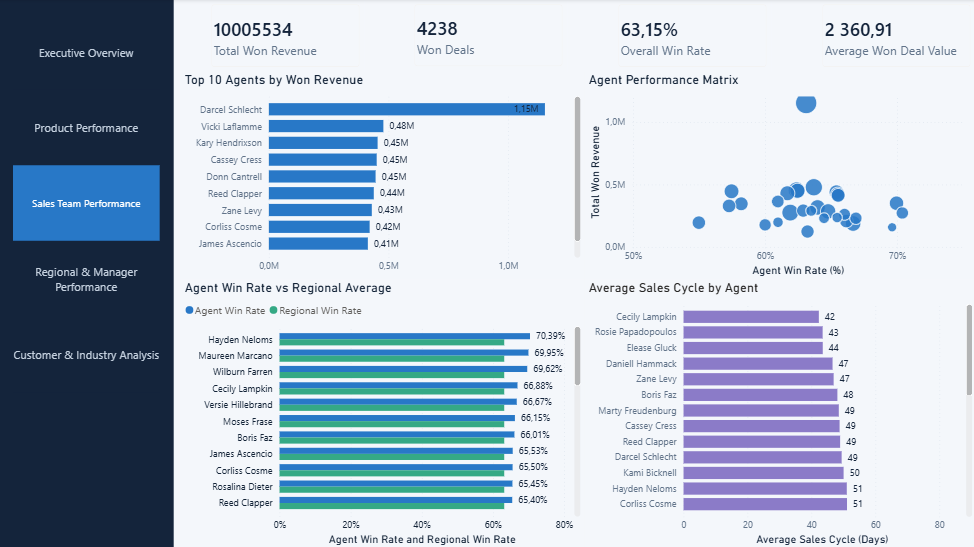

What the dashboard file says about the page in this screenshot:
{"tool":"powerbi","page":{"name":"Sales Team Performance","canvas":[1280,720],"ordinal":2},"visuals":[{"type":"shape","box":[0,0,230,720],"z":0},{"type":"pageNavigator","box":[20,20,192,496],"z":1000},{"type":"cardVisual","fields":{"Data":["sales_pipeline.Won Deals"]},"box":[538.7,0,208,96],"z":2000},{"type":"cardVisual","fields":{"Data":["sales_pipeline.Overall Win Rate"]},"box":[805.3,0,208,96],"z":3000},{"type":"cardVisual","fields":{"Data":["sales_pipeline.Total Won Revenue"]},"box":[272,0,208,96],"z":4000},{"type":"cardVisual","fields":{"Data":["sales_pipeline.Average Won Deal Value"]},"box":[1072,0,208,96],"z":5000},{"type":"clusteredBarChart","title":"Top 10 Agents by Won Revenue","fields":{"Category":["sales_teams.sales_agent"],"Y":["sales_pipeline.Total Won Revenue"]},"box":[240,96,528,272],"z":6000},{"type":"clusteredBarChart","title":"Agent Win Rate vs Regional Average","fields":{"Category":["sales_teams.sales_agent"],"Y":["sales_pipeline.Overall Win Rate","sales_teams.Regional Win Rate"]},"box":[240,368,528,352],"z":7000},{"type":"scatterChart","title":"Agent Performance Matrix","fields":{"X":["sales_pipeline.Overall Win Rate"],"Y":["sales_pipeline.Total Won Revenue"],"Size":["sales_pipeline.Won Deals"],"Category":["sales_pipeline.sales_agent"]},"box":[768,96,512,272],"z":8000},{"type":"clusteredBarChart","title":"Average Sales Cycle by Agent","fields":{"Category":["sales_teams.sales_agent"],"Y":["sales_pipeline.Average Sales Cycle"]},"box":[768,368,512,352],"z":9000}]}

Visuals, with their boxes on the page's 1280x720 design canvas (x1, y1, x2, y2). These are canvas units, not pixel positions in the 974x547 screenshot, which may show the page scaled, cropped or inside an application window:
shape: select_region(0, 0, 230, 720)
pageNavigator: select_region(20, 20, 212, 516)
cardVisual - sales_pipeline.Won Deals: select_region(539, 0, 747, 96)
cardVisual - sales_pipeline.Overall Win Rate: select_region(805, 0, 1013, 96)
cardVisual - sales_pipeline.Total Won Revenue: select_region(272, 0, 480, 96)
cardVisual - sales_pipeline.Average Won Deal Value: select_region(1072, 0, 1280, 96)
"Top 10 Agents by Won Revenue" clusteredBarChart: select_region(240, 96, 768, 368)
"Agent Win Rate vs Regional Average" clusteredBarChart: select_region(240, 368, 768, 720)
"Agent Performance Matrix" scatterChart: select_region(768, 96, 1280, 368)
"Average Sales Cycle by Agent" clusteredBarChart: select_region(768, 368, 1280, 720)
